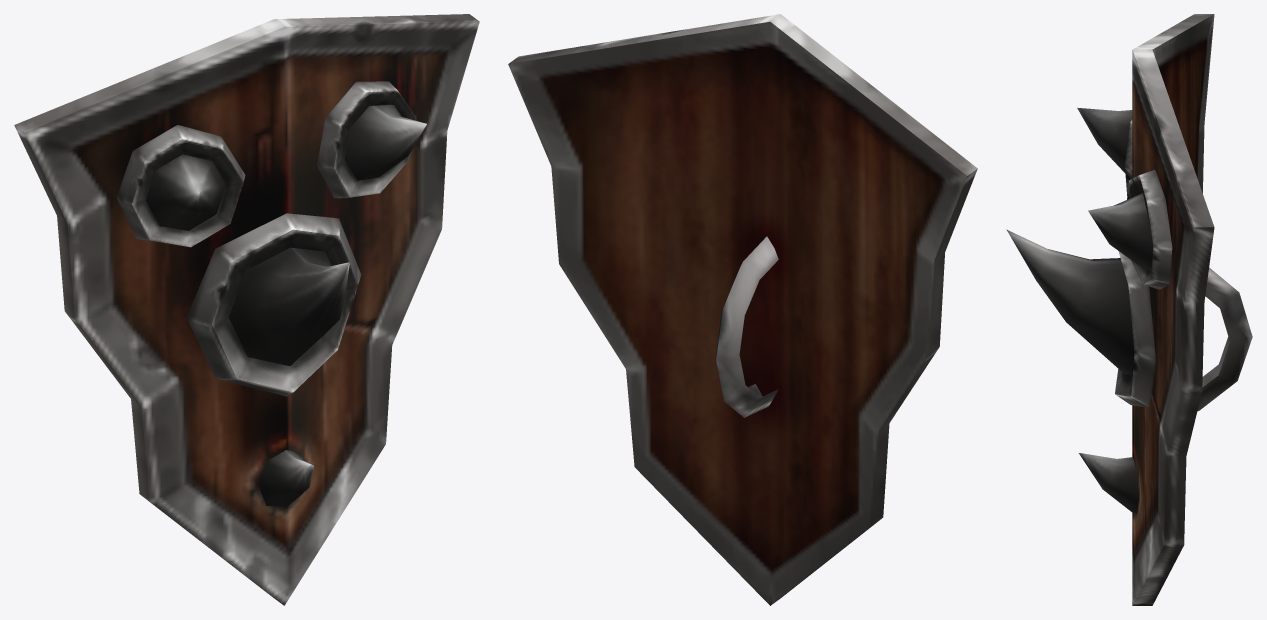
The model's file is Shield_lvl3.fbx.
The picture shows the model from 3 angles, left to right: view 1: azimuth 30°, elevation 25°; view 2: azimuth 150°, elevation 25°; view 3: azimuth 270°, elevation 25°; orthographic projection. The views are drawn at different scales.
Visible parts, largest first — view 1: Shield_lvl3; view 2: Shield_lvl3; view 3: Shield_lvl3.
Part boxes in pixels (<box>): Shield_lvl3: <box>14,14,479,605</box>; Shield_lvl3: <box>508,14,977,605</box>; Shield_lvl3: <box>1006,14,1252,605</box>.
Bounding box in the file's own units: 59.7 × 72.58 × 29.13.
